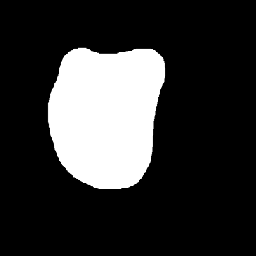mass: (53, 37, 166, 208)
